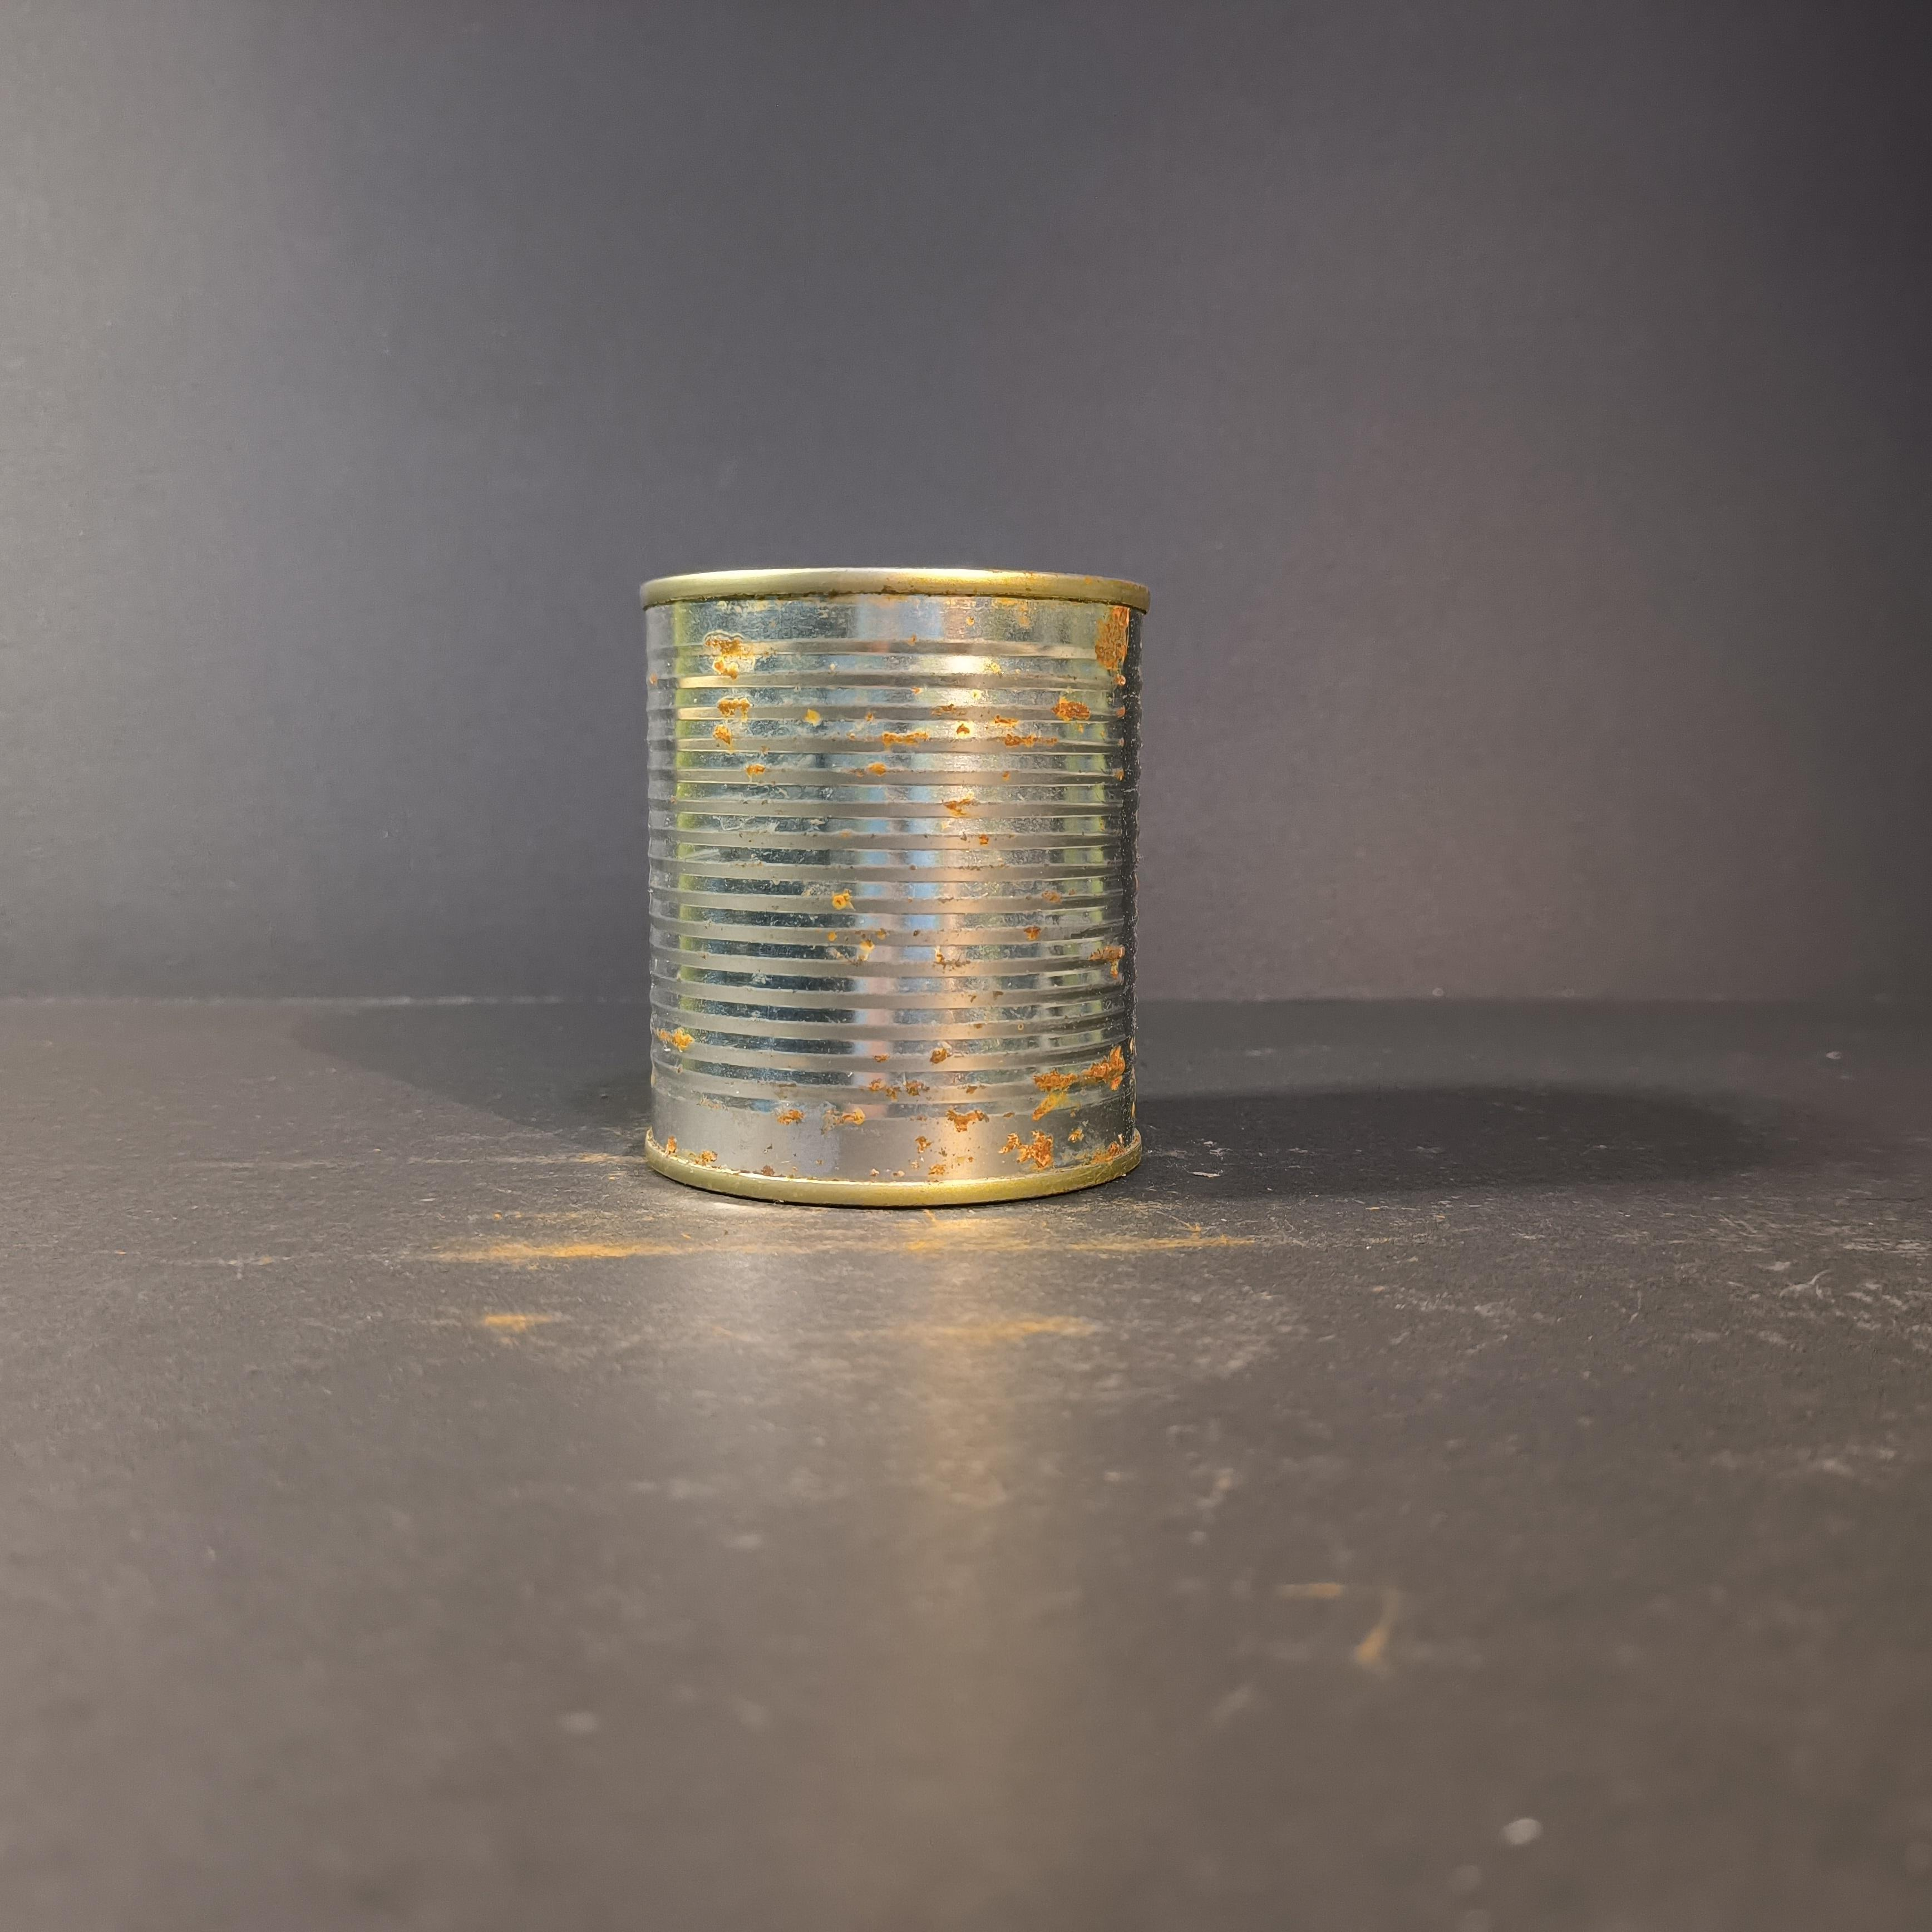Rusted: (612, 531, 1168, 1228)
